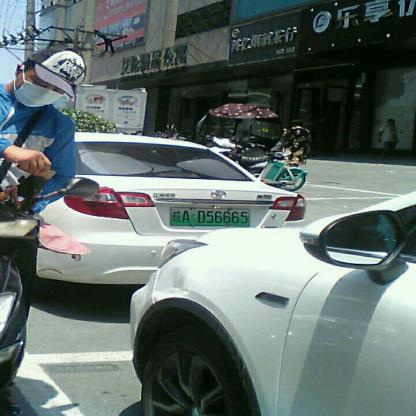lp: (170, 207, 249, 225)
